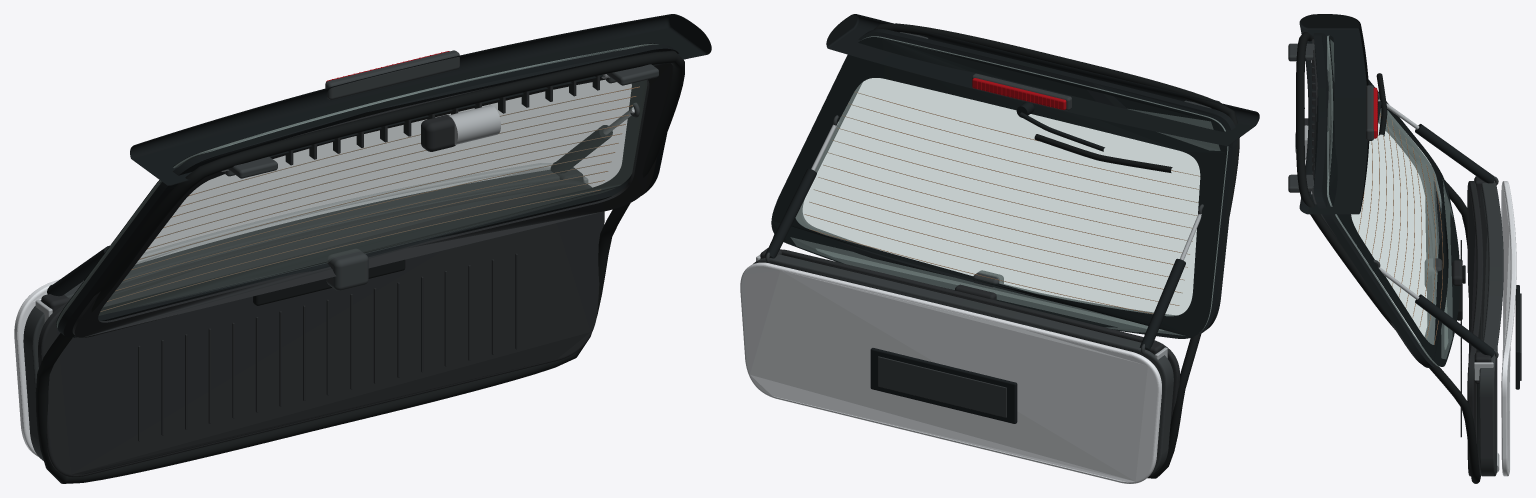
3 renders of one model, left to right at view 1: azimuth 30°, elevation 25°; view 2: azimuth 150°, elevation 25°; view 3: azimuth 270°, elevation 25°, orthographic. The views are drawn at different scales.
Visible parts, largest first — view 1: hatch-lower-trim, rear-glass, hatch-seal, hatch-spoiler, hatch-upper-trim, hatch-upper-frame, tailgate, hatch-lower-panel, hatch-brake-light, hatch-wiper-motor, hatch-upper-lock, hatch-strut-left--strut-barrel (+2 smaller); view 2: rear-glass, hatch-lower-panel, hatch-spoiler, hatch-upper-frame, tailgate, hatch-seal, hatch-lower-trim, hatch-wiper-arm, hatch-brake-light, hatch-strut-left--strut-barrel, hatch-strut-right--strut-barrel, hatch-upper-trim; view 3: rear-glass, hatch-spoiler, hatch-upper-frame, tailgate, hatch-seal, hatch-lower-panel, hatch-lower-trim, hatch-upper-trim, hatch-strut-left--strut-barrel, hatch-strut-right--strut-barrel, hatch-brake-light, hatch-wiper-arm (+5 smaller).
Part boxes in pixels (x1,y1,x2,y2): hatch-lower-trim: (38,180,604,477); rear-glass: (56,43,659,327); hatch-seal: (36,50,684,483); hatch-spoiler: (130,14,711,185); hatch-upper-trim: (72,63,672,337); hatch-upper-frame: (58,44,678,337); tailgate: (23,170,559,460); hatch-lower-panel: (14,163,552,456); hatch-brake-light: (325,50,459,99); hatch-wiper-motor: (421,105,500,151); hatch-upper-lock: (326,248,368,290); hatch-strut-left--strut-barrel: (550,125,612,173); rear-glass: (771,36,1228,338); hatch-lower-panel: (740,262,1161,483); hatch-spoiler: (826,14,1259,146); hatch-upper-frame: (777,29,1237,333); tailgate: (753,254,1173,475); hatch-seal: (773,23,1239,478); hatch-lower-trim: (779,249,1179,422); hatch-wiper-arm: (1016,102,1172,172); hatch-brake-light: (972,73,1071,110); hatch-strut-left--strut-barrel: (764,168,816,258); hatch-strut-right--strut-barrel: (1139,258,1185,350); hatch-upper-trim: (796,82,1176,315); rear-glass: (1327,35,1459,366); hatch-spoiler: (1299,14,1369,214); hatch-upper-frame: (1313,33,1443,367); tailgate: (1479,181,1503,476); hatch-seal: (1296,32,1480,483); hatch-lower-panel: (1501,181,1521,476); hatch-lower-trim: (1457,181,1483,476); hatch-upper-trim: (1312,39,1435,363); hatch-strut-left--strut-barrel: (1415,294,1495,357); hatch-strut-right--strut-barrel: (1415,124,1495,183); hatch-brake-light: (1366,85,1377,140); hatch-wiper-arm: (1376,73,1387,136).
Bounding box in the file's own units: 1.3 × 0.9003 × 0.6305.
